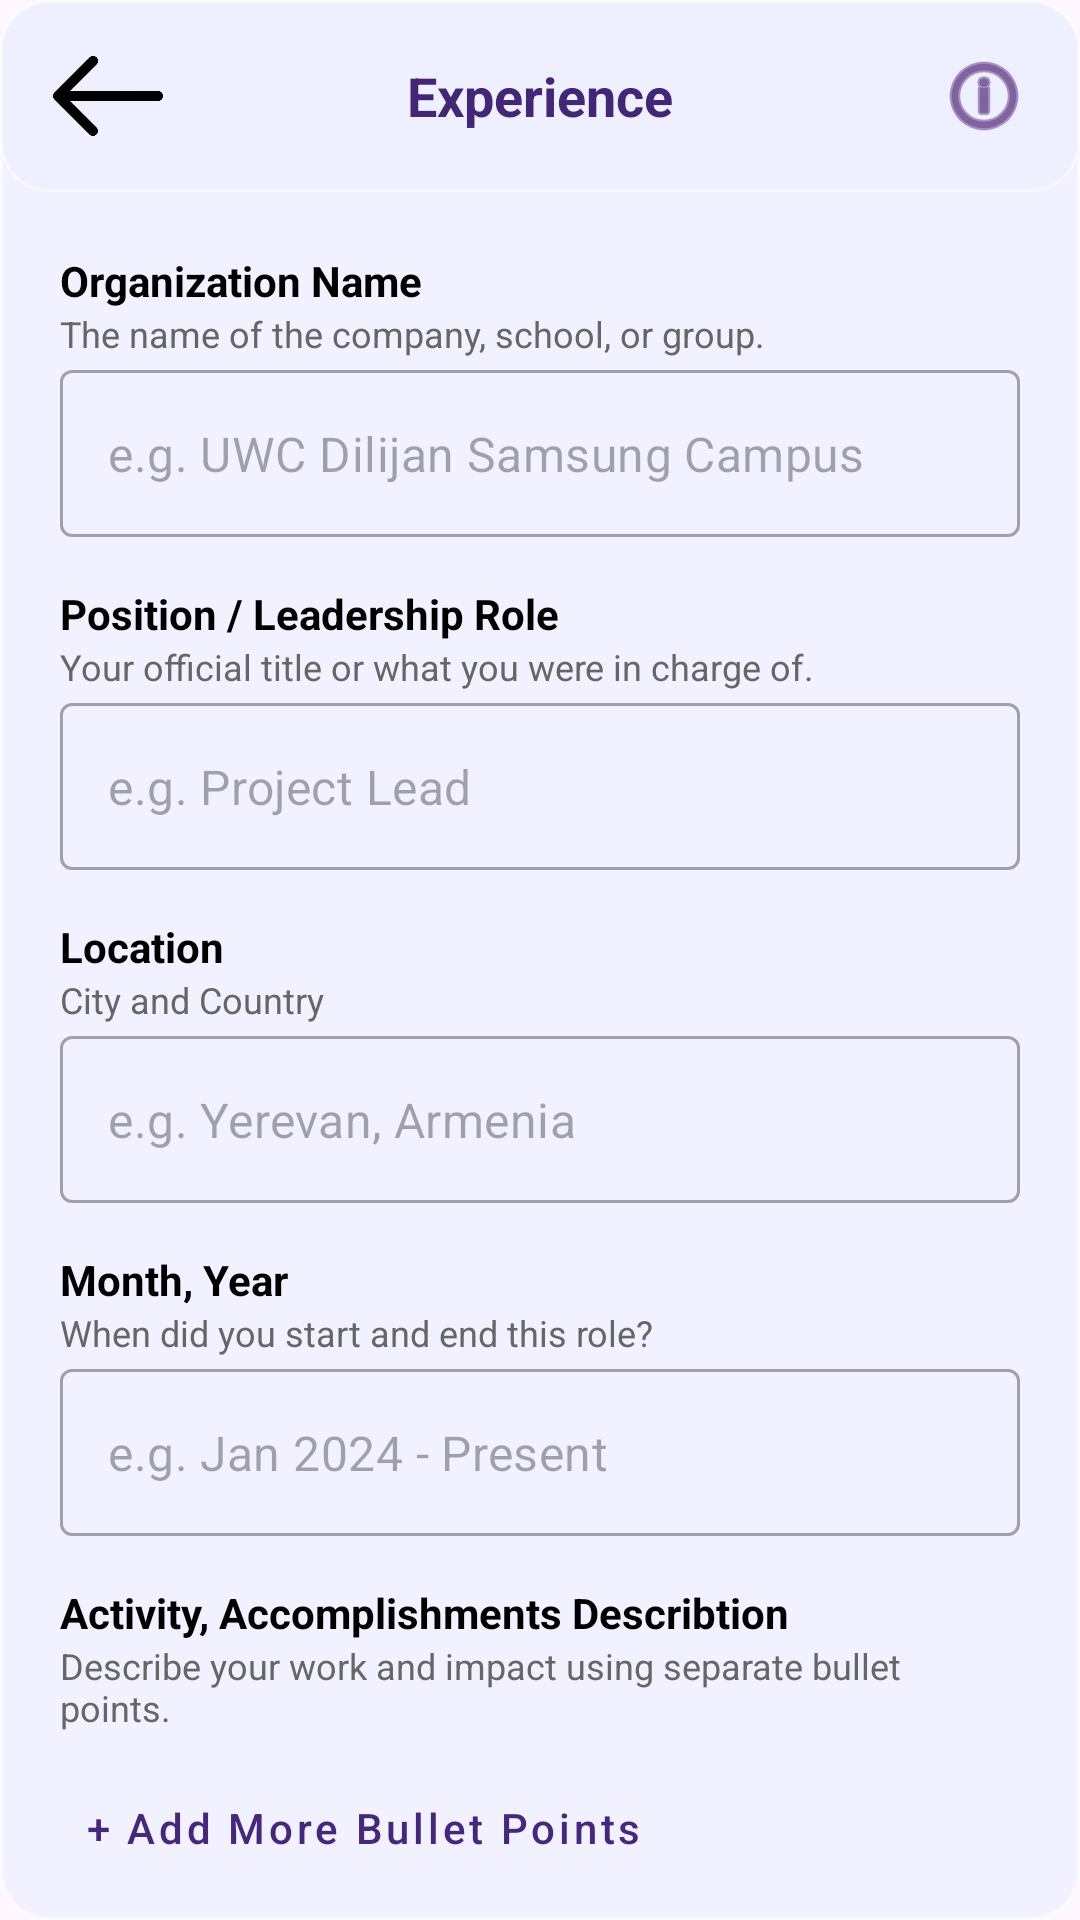

Screen size 1080*1920. Icon name, then its center in pixels as (x=x, y=y):
back: (x=108, y=96)
info details: (x=984, y=96)
